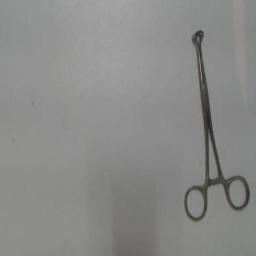Babcock Tissue Forceps: (182, 26, 252, 224)
